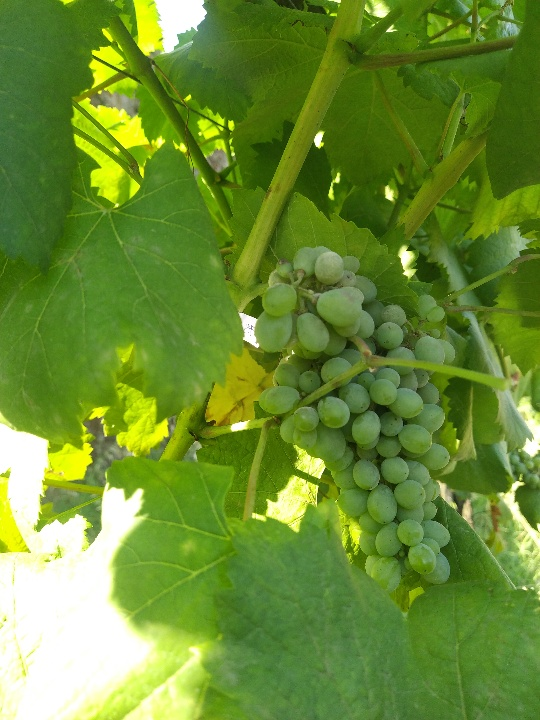grape: (254, 249, 458, 589)
